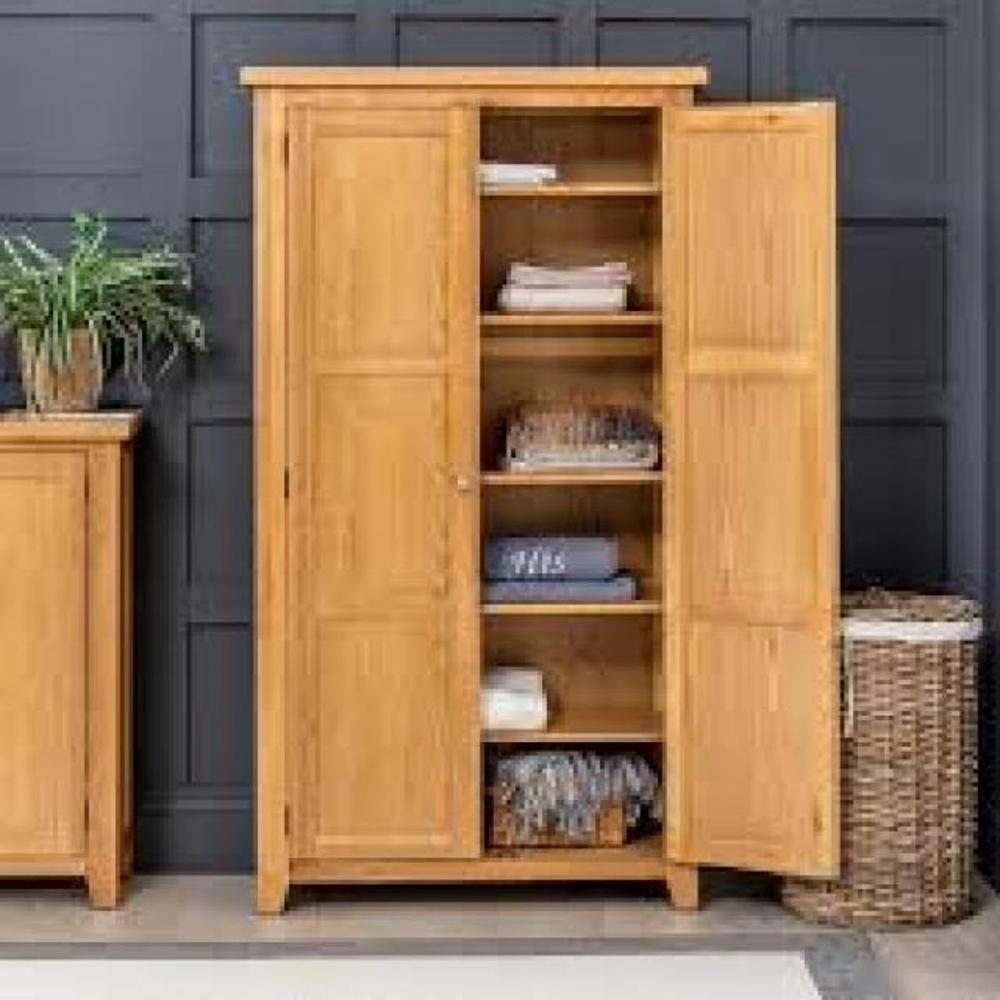cabinet: (244, 67, 844, 913)
